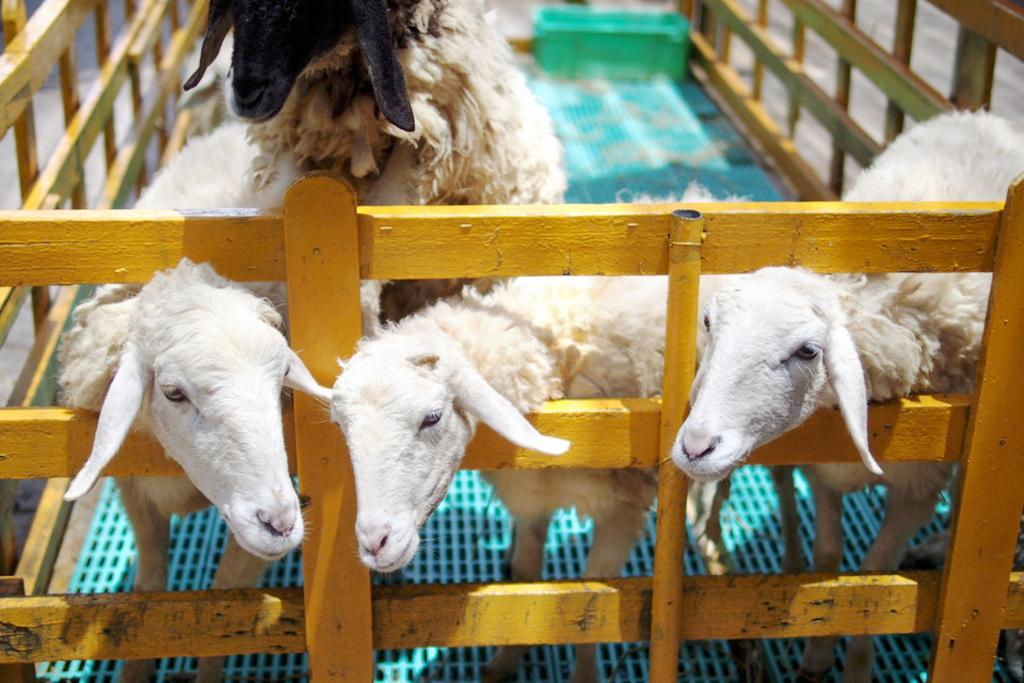Sheep: (336, 184, 728, 572), (658, 109, 1023, 484), (114, 0, 575, 235), (51, 265, 311, 567)
